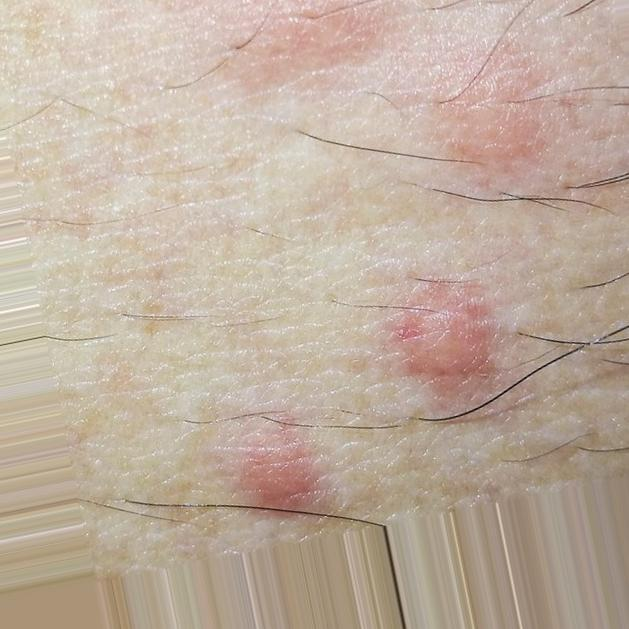Fleas: (377, 266, 512, 405), (438, 65, 566, 163), (228, 421, 328, 519)
